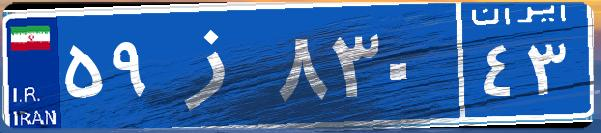0: (385, 28, 445, 110)
3: (330, 28, 385, 110), (525, 38, 570, 115)
4: (475, 38, 525, 113)
5: (57, 26, 110, 107)
8: (273, 28, 330, 110)
9: (110, 28, 158, 105)
ز: (158, 15, 273, 115)
